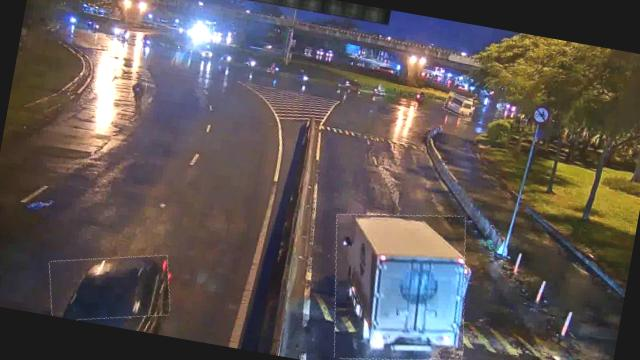Bike: (129, 76, 148, 106)
Bus: (443, 93, 473, 118)
Car: (43, 241, 177, 333)
Truck: (318, 200, 480, 360)
